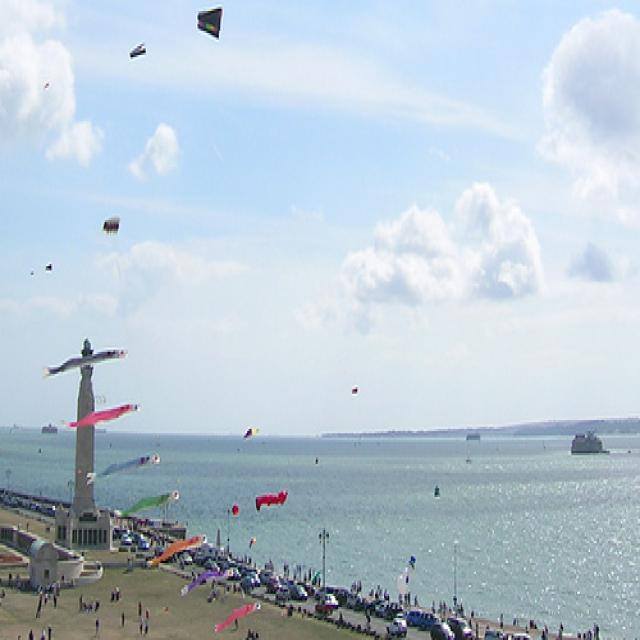Vehicle: (155, 534, 534, 638), (429, 622, 455, 640), (290, 584, 308, 602), (238, 574, 256, 591), (313, 599, 333, 614), (266, 577, 282, 592), (276, 586, 291, 602), (347, 594, 361, 610), (324, 594, 338, 608), (204, 561, 220, 573), (120, 533, 133, 546), (180, 551, 192, 564), (250, 572, 260, 587), (138, 537, 149, 549)
